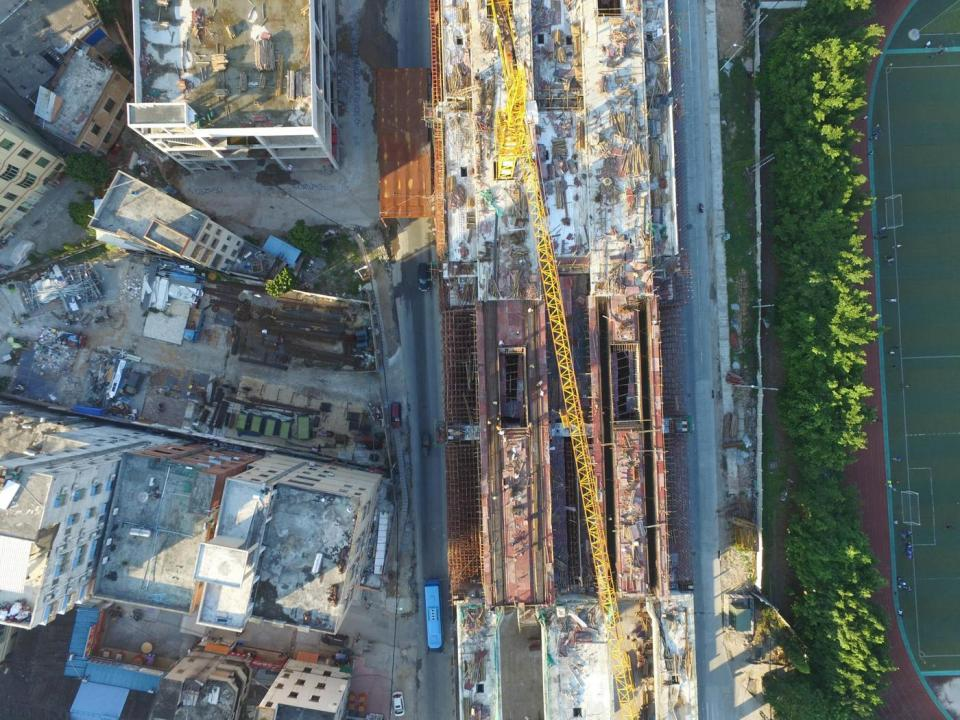bus: (423, 578, 446, 656)
car: (8, 240, 37, 264), (389, 690, 406, 716), (321, 633, 348, 649), (417, 261, 429, 292), (391, 401, 402, 428)
truck: (39, 326, 89, 348), (182, 307, 204, 344), (125, 370, 144, 395)
